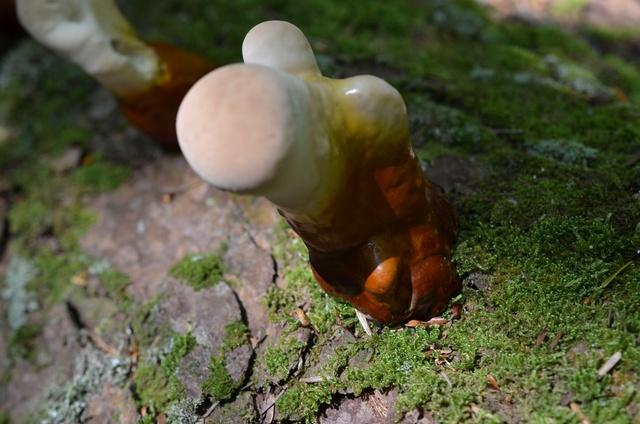poisonous_mushroom: (174, 18, 463, 326)
